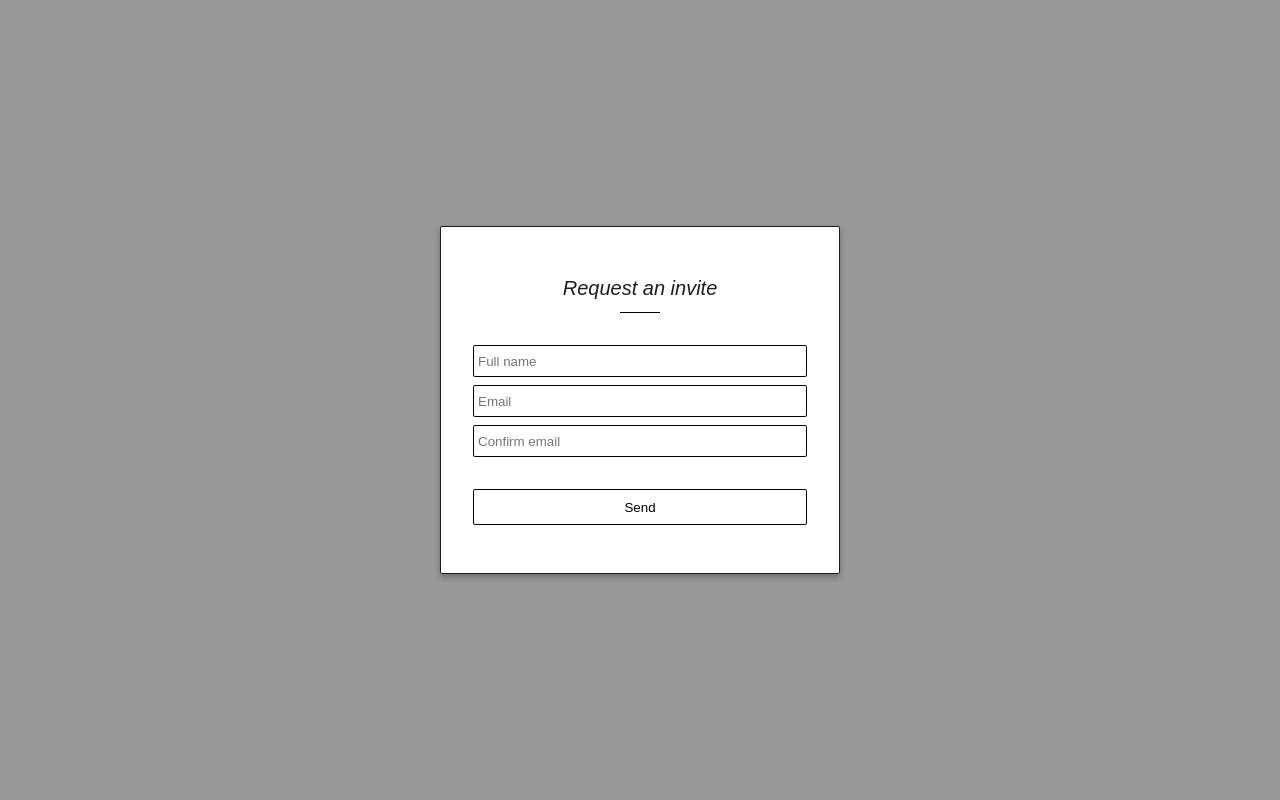
Scenario: (Component) RequestModal › should show the error message if the api returns an error
This screenshot has width=1280, height=800.
Check: the text "Request an invite" is shown, box top-left (563, 277), bottom-right (717, 299)
Step 1. Type "John Doe" into the field with placeholder "Full name" → (640, 361), box top-left (473, 345), bottom-right (807, 377)
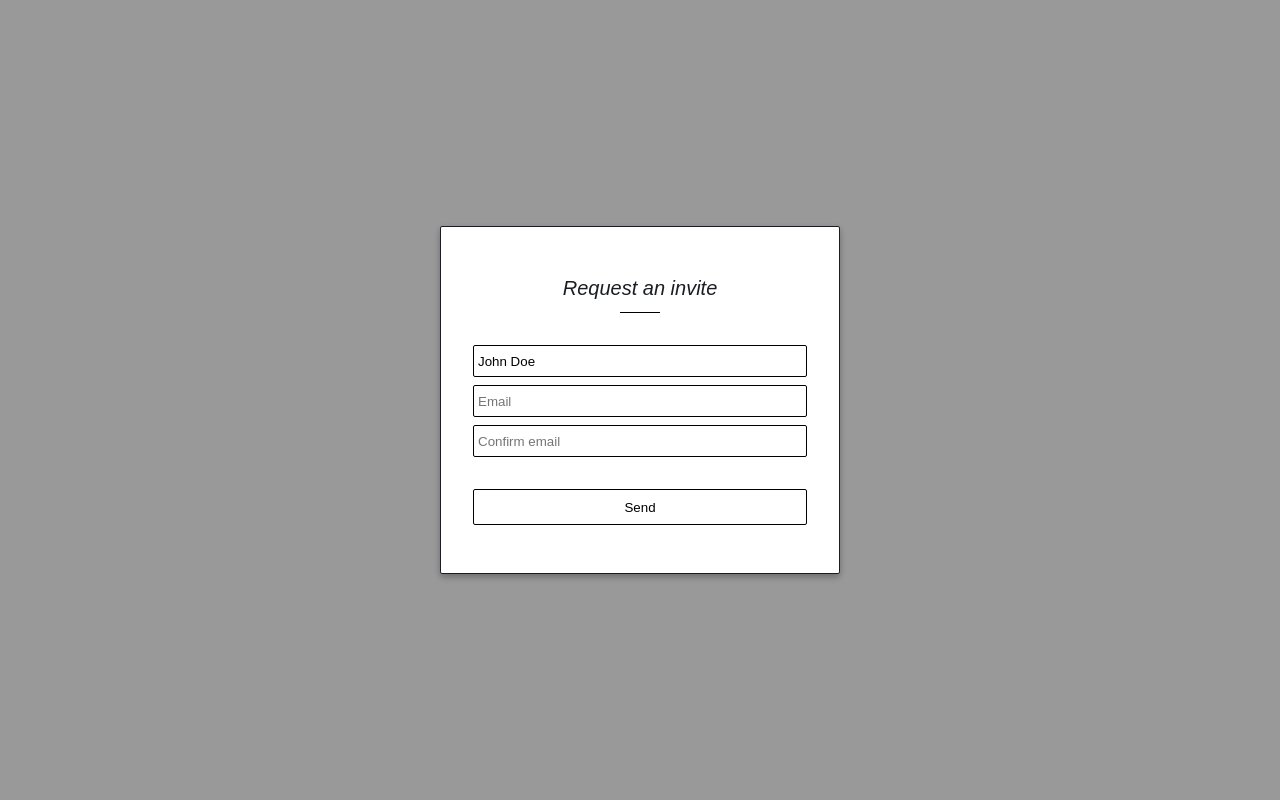
Step 2. Type "johndoe@airwallex.com" into the field with placeholder "Email" → (640, 401), box top-left (473, 385), bottom-right (807, 417)
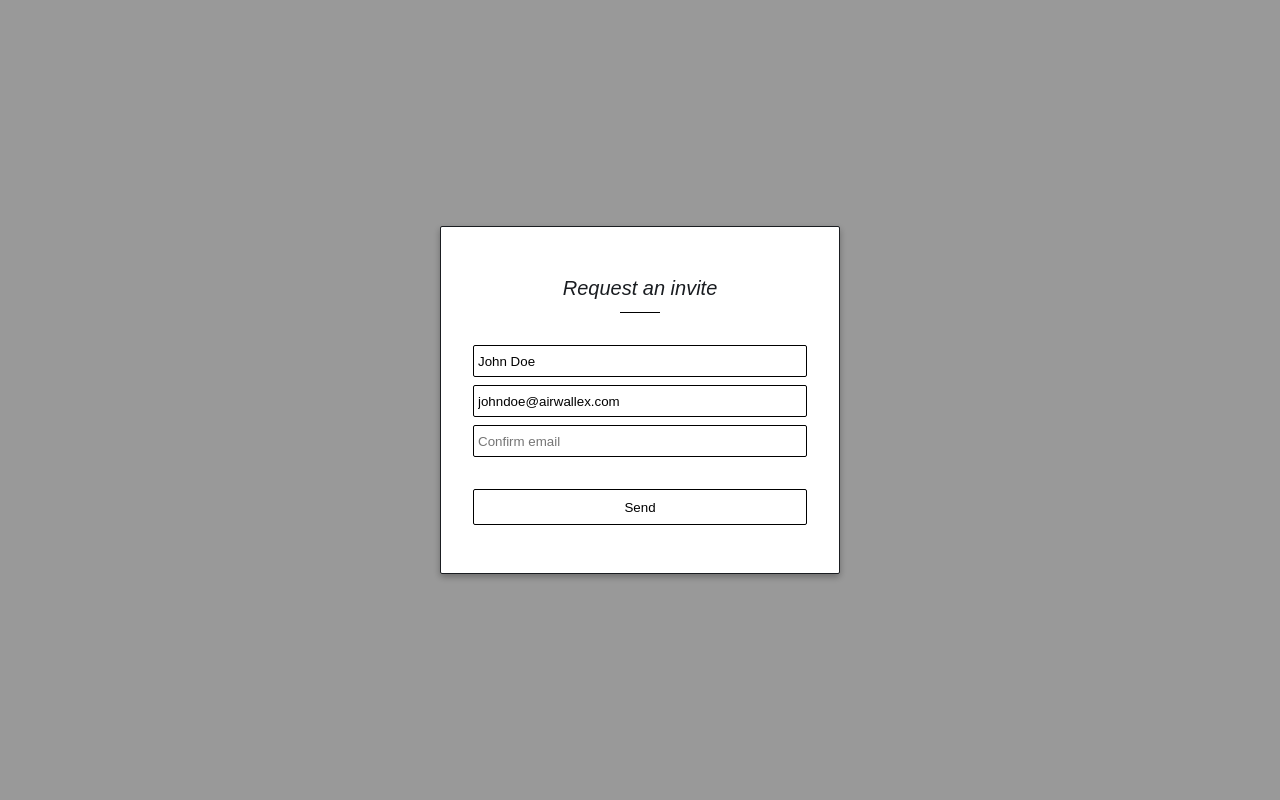
Step 3. Type "johndoe@airwallex.com" into the field with placeholder "Confirm email" → (640, 441), box top-left (473, 425), bottom-right (807, 457)
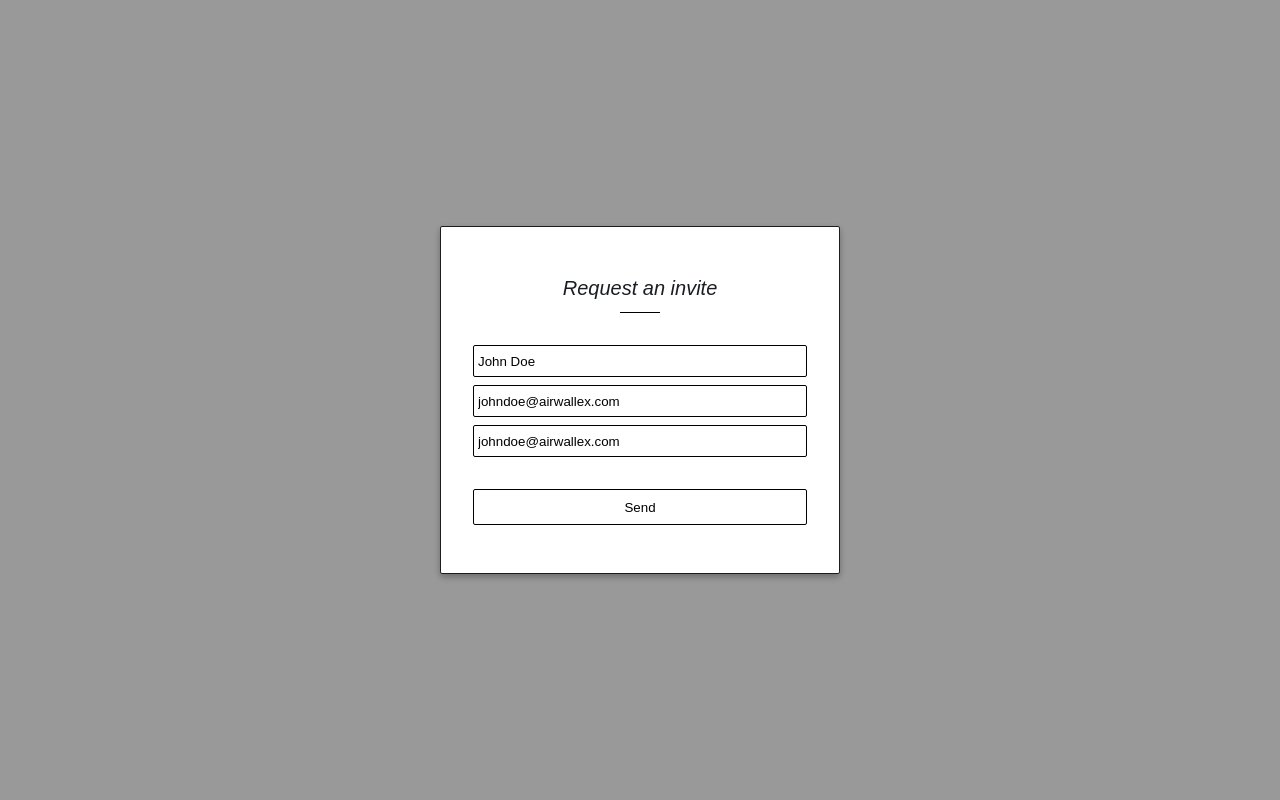
Step 4. Click the button "Send" → (640, 507), box top-left (473, 489), bottom-right (807, 525)
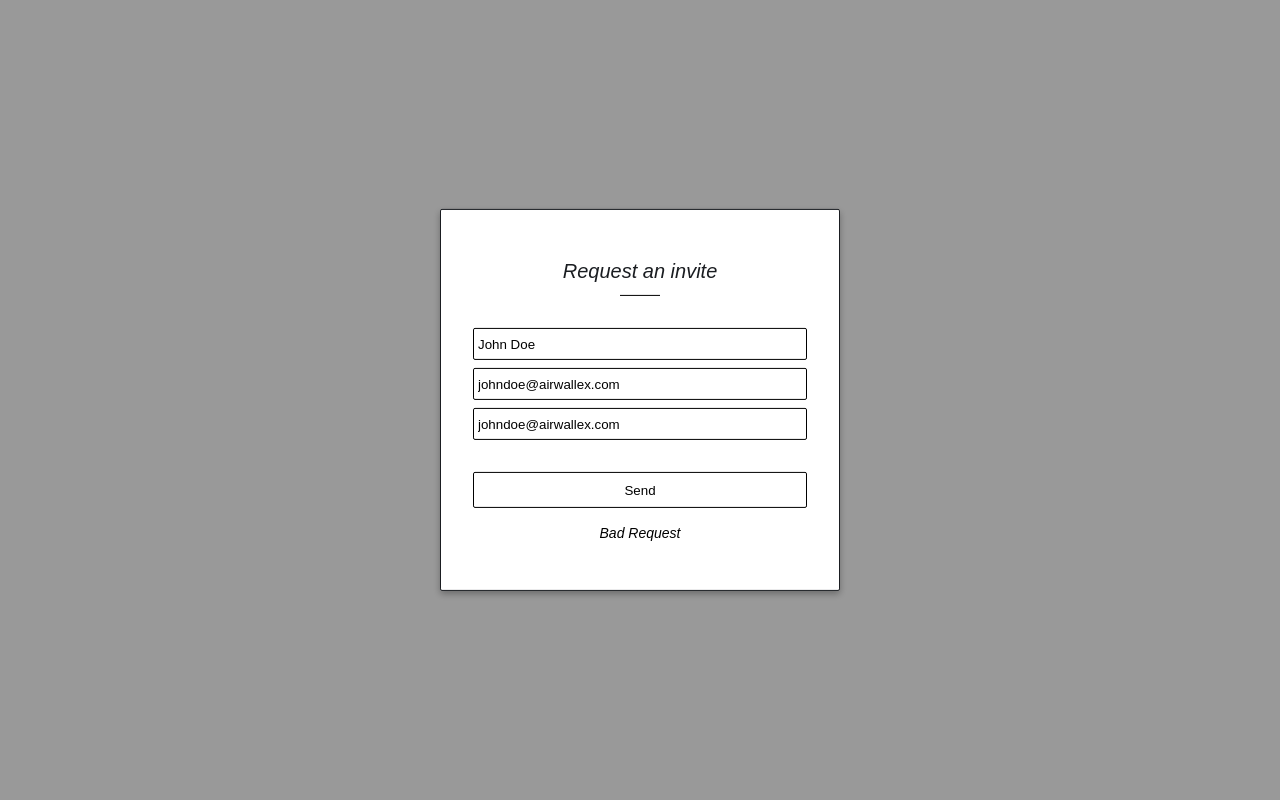
Check: the text "Bad Request" is shown, box top-left (600, 525), bottom-right (680, 541)
